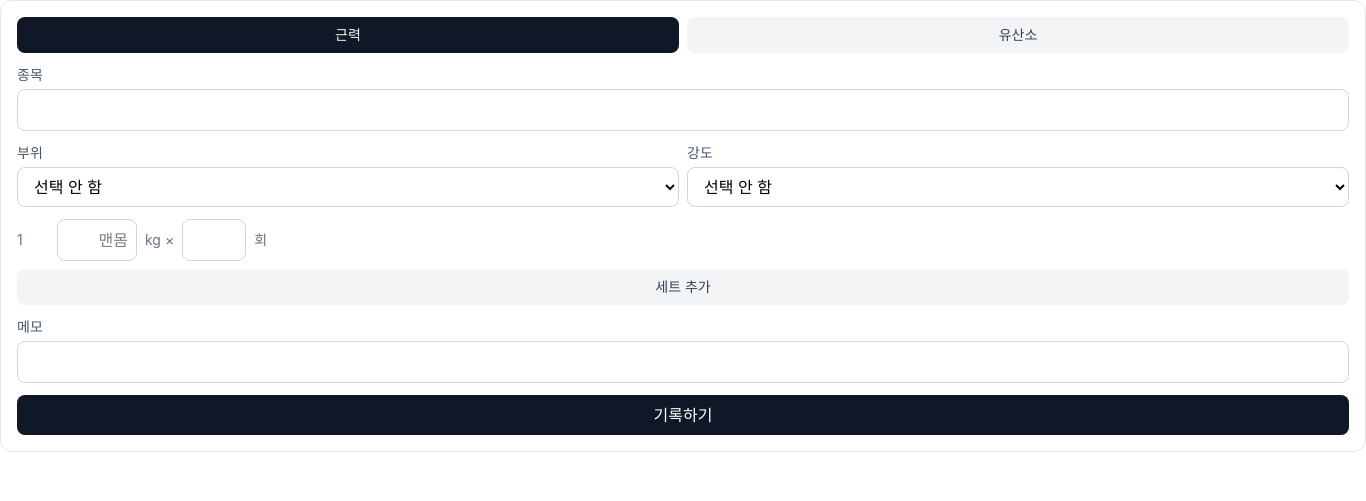
Test: 운동 폼 › 횟수가 1000을 넘으면 저장하지 않고 알린다
The width and height of the screenshot is (1366, 501).
Type "팔벌려뛰기" into the field labelled "종목" at (683, 110), box x1=17 y1=89 x2=1349 y2=131
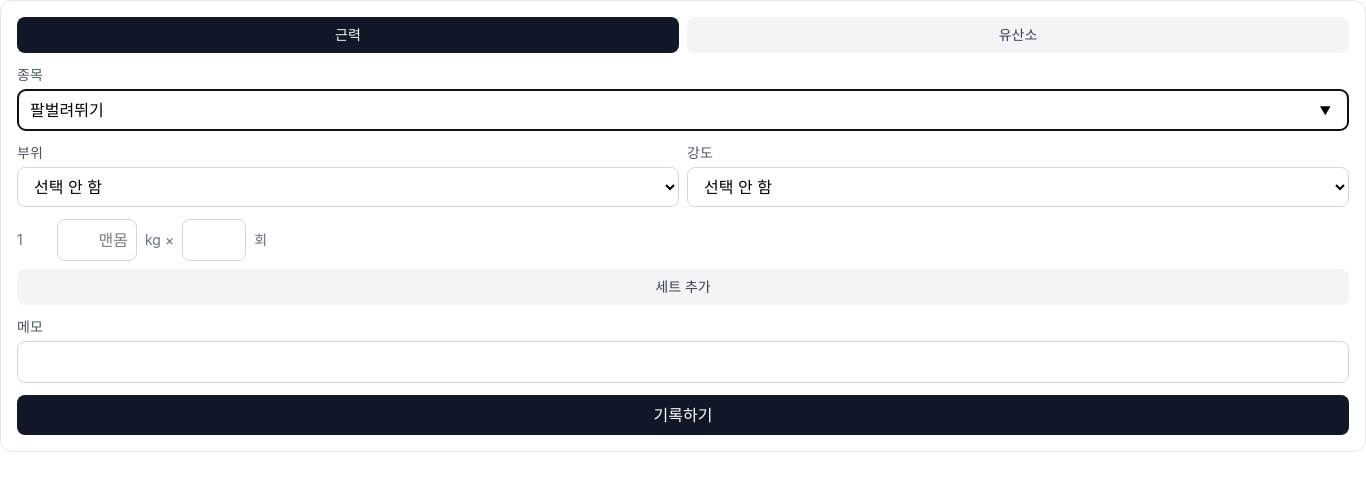
Type "2000" into the field named "1세트 횟수" at (214, 240), box x1=182 y1=219 x2=246 y2=261
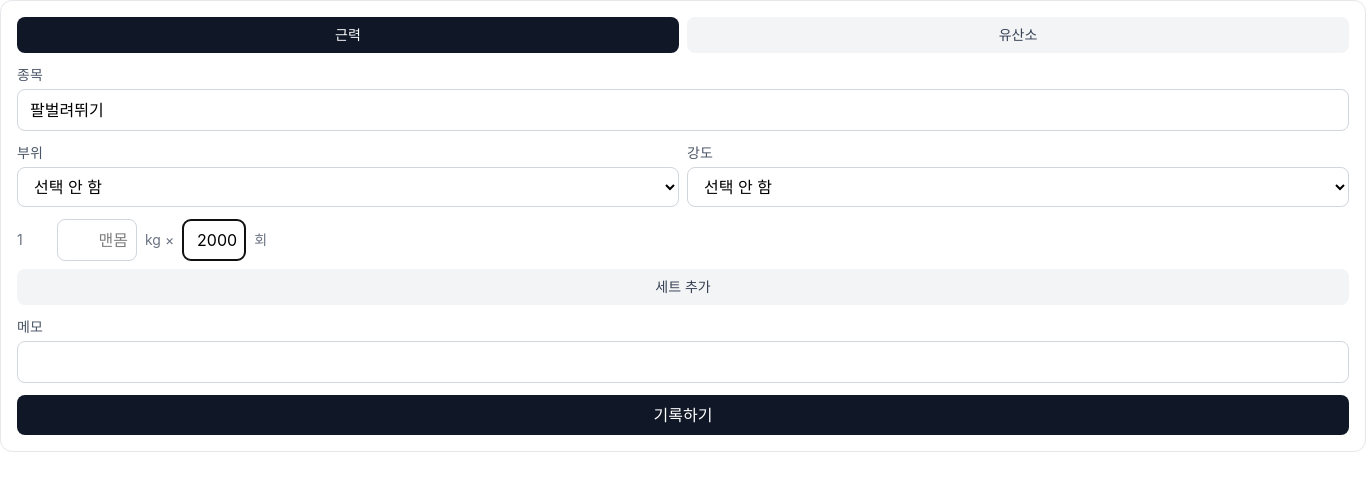
Click the button "기록하기" at (683, 415), box x1=17 y1=395 x2=1349 y2=435
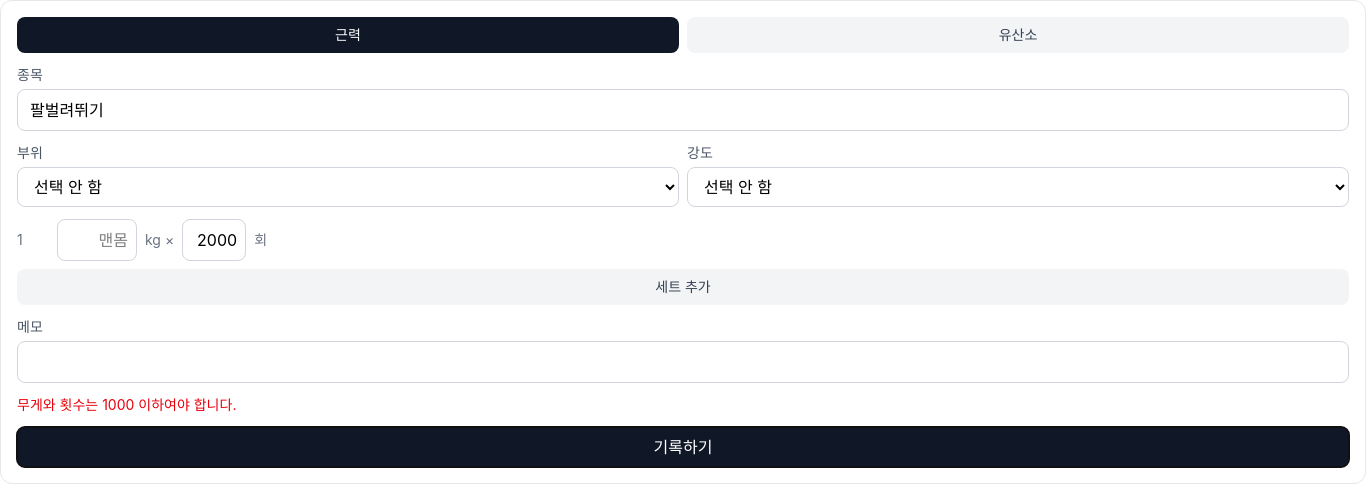
Now the message shows "1000", box x1=17 y1=396 x2=236 y2=413
